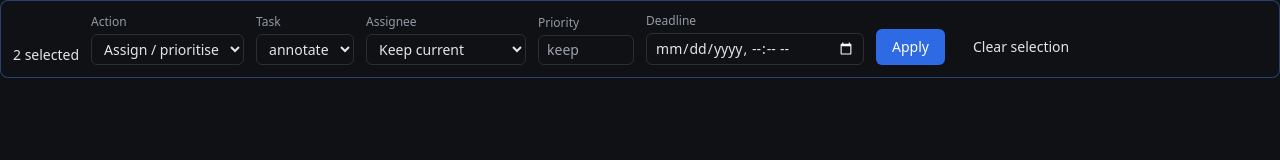
Test: BulkActionsBar › assigns with only the fields the user set
Select "Ann" in the dropdown labelled "Assignee". click: [446, 50]
box: 366,34 -> 526,65
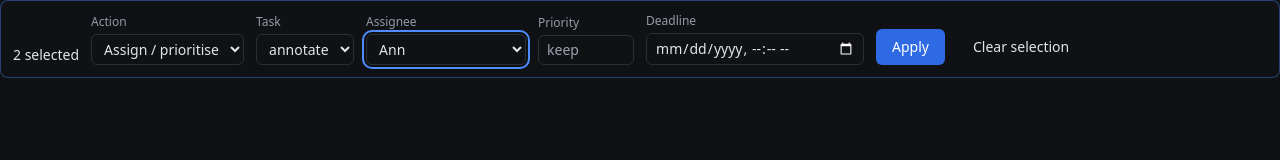
Type "4" into the number field labelled "Priority". click: [586, 50]
box: 538,35 -> 634,65
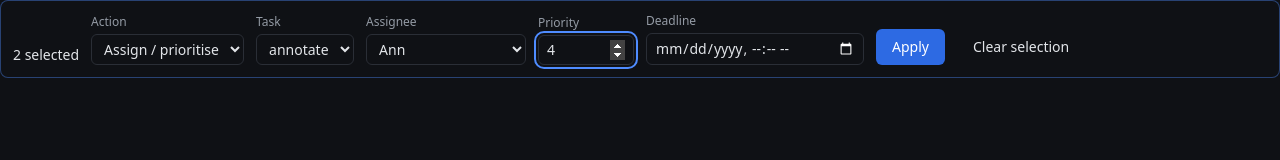
Click the button "Apply". click: [910, 47]
box: 876,29 -> 945,65
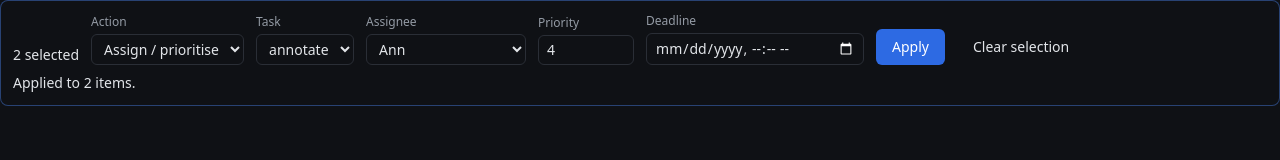
Result: the message reads "Applied to 2 items." at 13,73 -> 136,92
